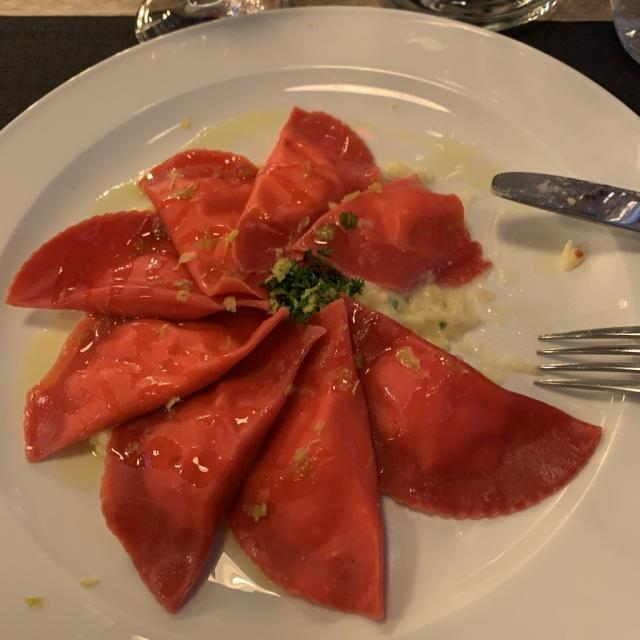mashed-potatoes: (348, 279, 486, 346)
